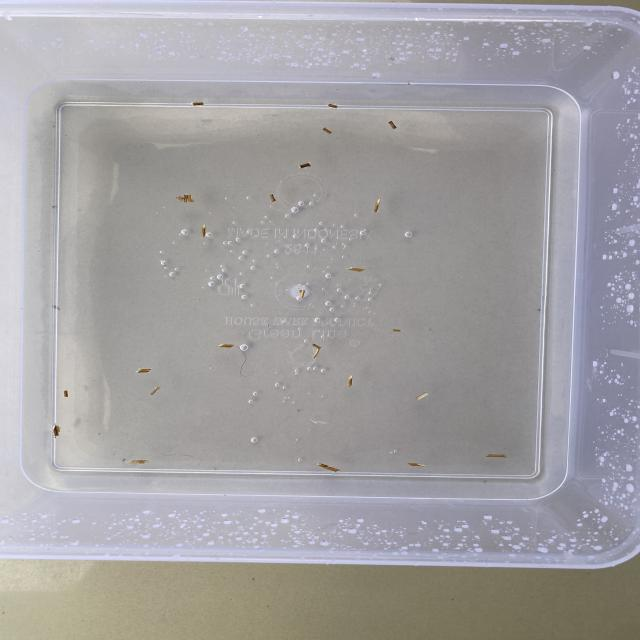Wereng: (370, 195, 384, 217), (319, 462, 344, 474), (147, 382, 165, 398), (310, 343, 324, 363), (50, 425, 64, 440), (188, 99, 212, 107), (406, 461, 433, 468), (178, 194, 200, 202), (413, 390, 435, 398), (198, 223, 208, 240), (325, 101, 343, 110), (296, 162, 316, 170), (61, 385, 70, 402), (486, 452, 507, 459), (386, 119, 397, 132), (298, 288, 308, 302), (140, 365, 154, 375), (348, 266, 365, 274), (391, 324, 402, 336), (268, 192, 280, 202), (347, 374, 354, 389), (128, 460, 149, 465), (325, 125, 335, 135), (221, 343, 237, 348)
